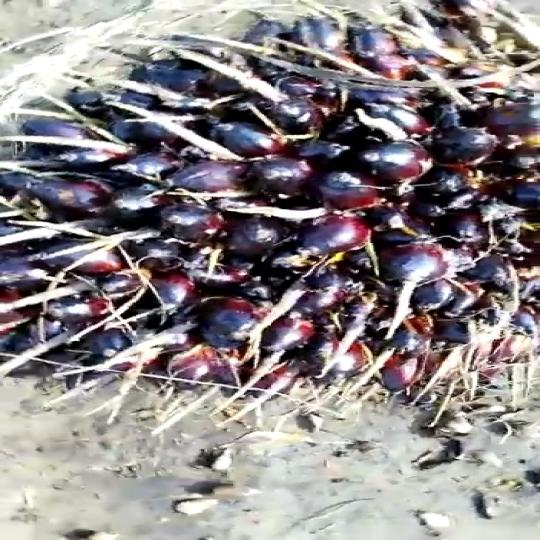mentah: (0, 7, 540, 438)
